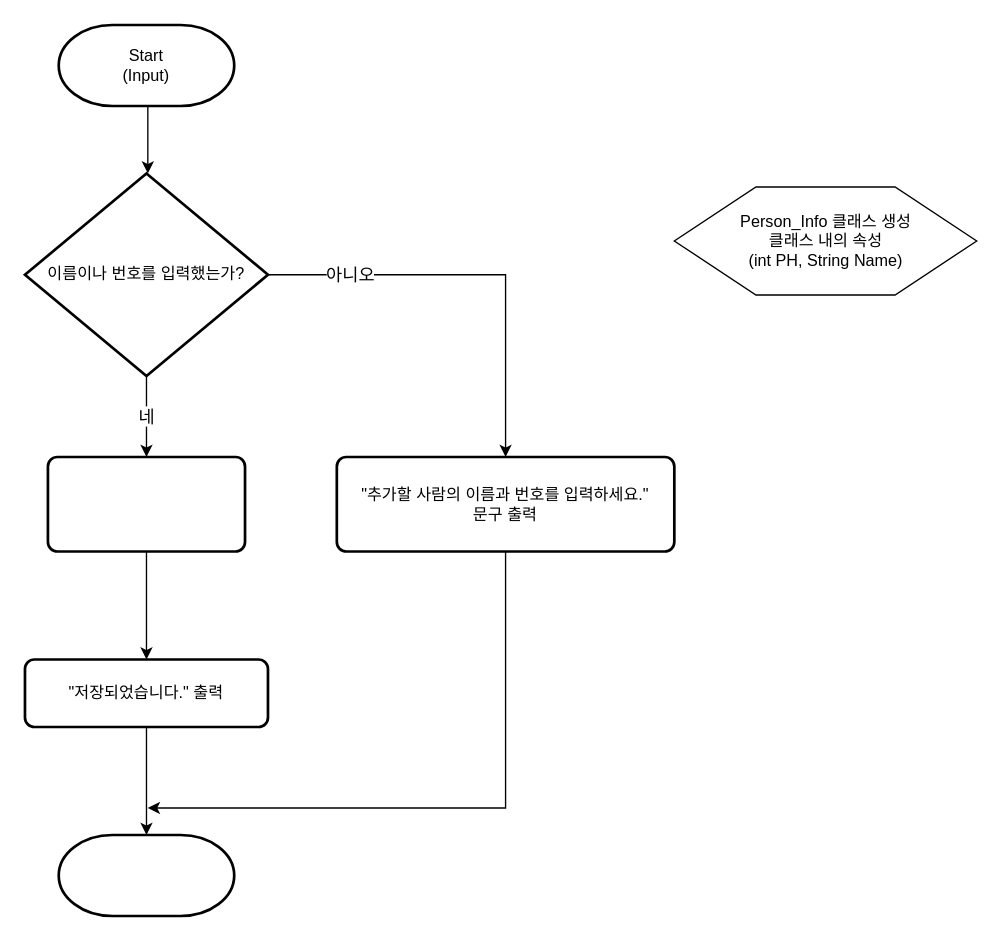
This 1000x940 diagram has some shape labels left out. The shapes that lost their labels are listed below. From the top down, each one's centre as x and y in pixels, then its label:
(146,503): 입력된 정보를 Person_Info 배열에 저장
(146,875): return;
